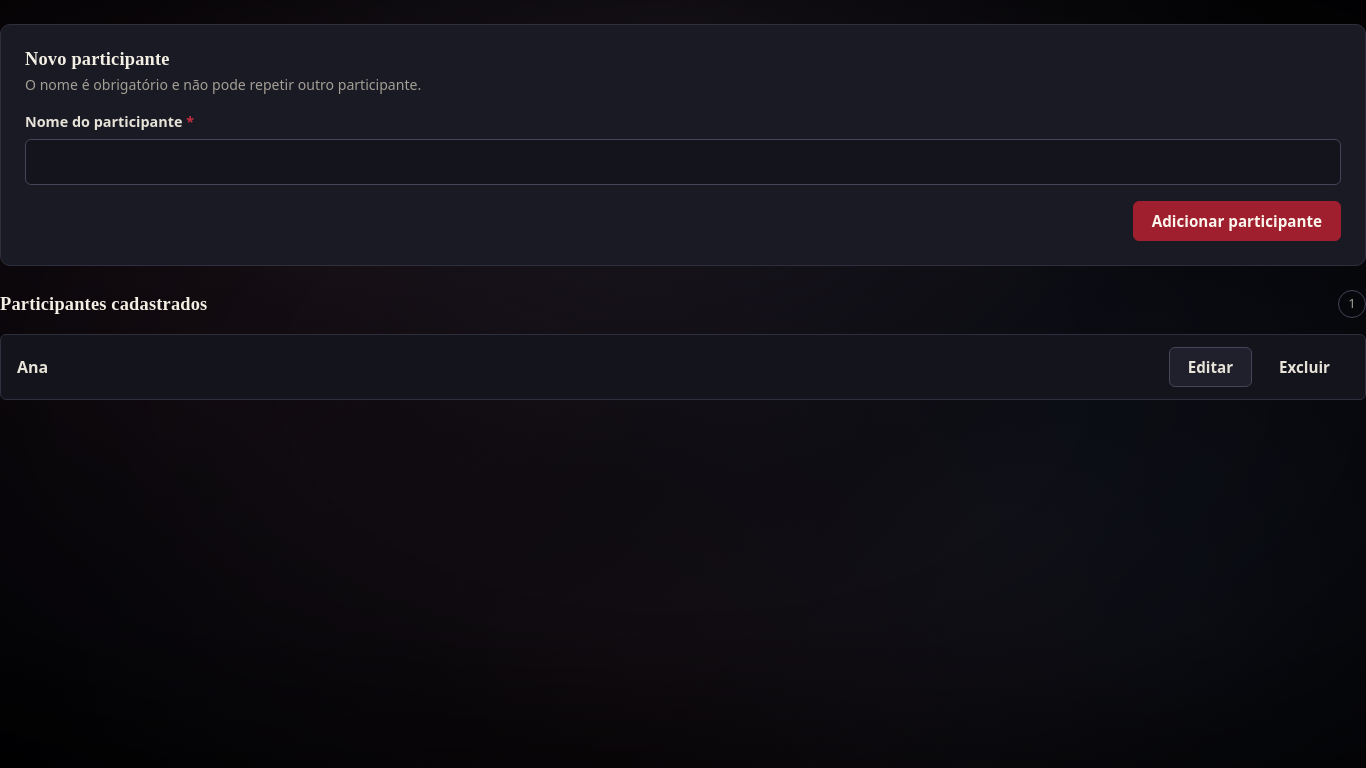
Test: Exclusão de participante (integração) › cancela a confirmação sem arquivar
The image size is (1366, 768).
Expected: the text "Ana" is shown, [17,355,48,379]
Click the button with aria-label "Excluir Ana" at [1305, 367], box [1260,347,1349,387]
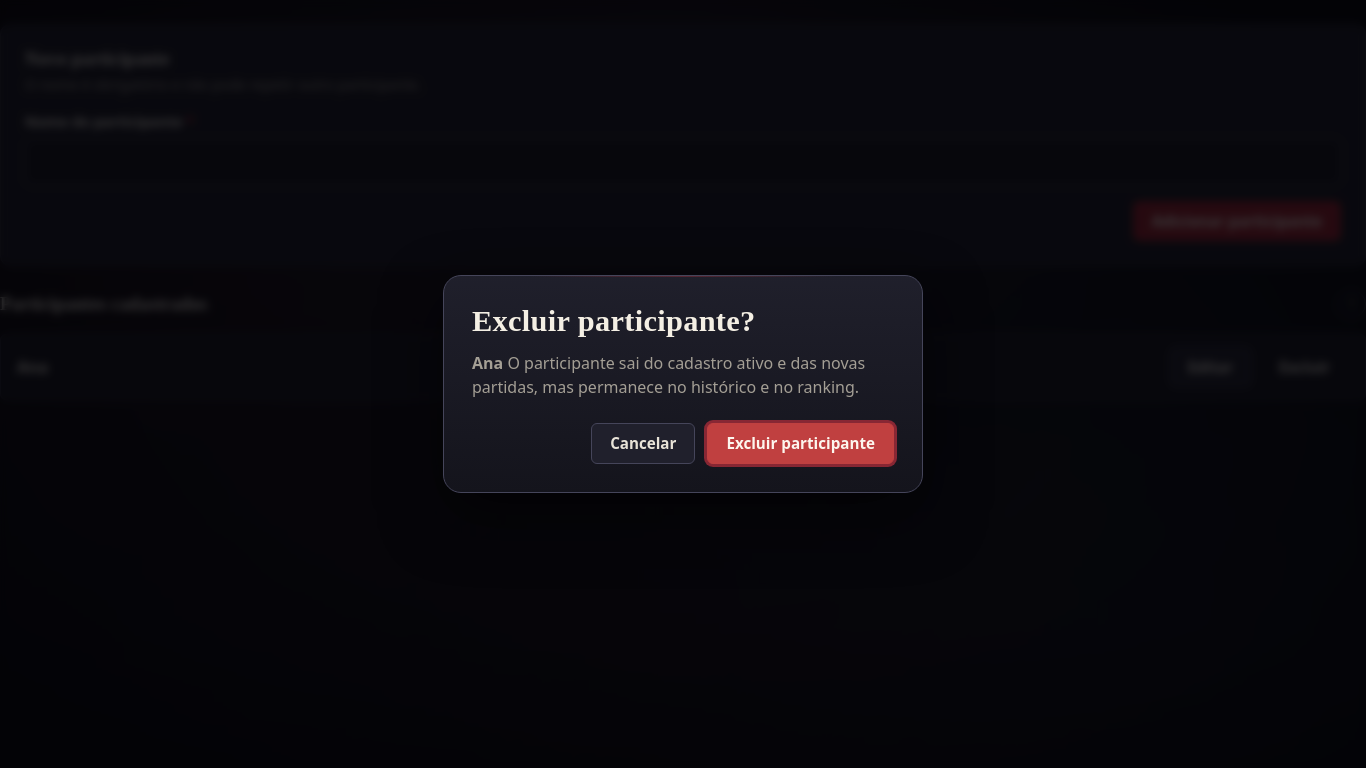
Click the button "Cancelar" at [643, 444], box [591,423,695,464]
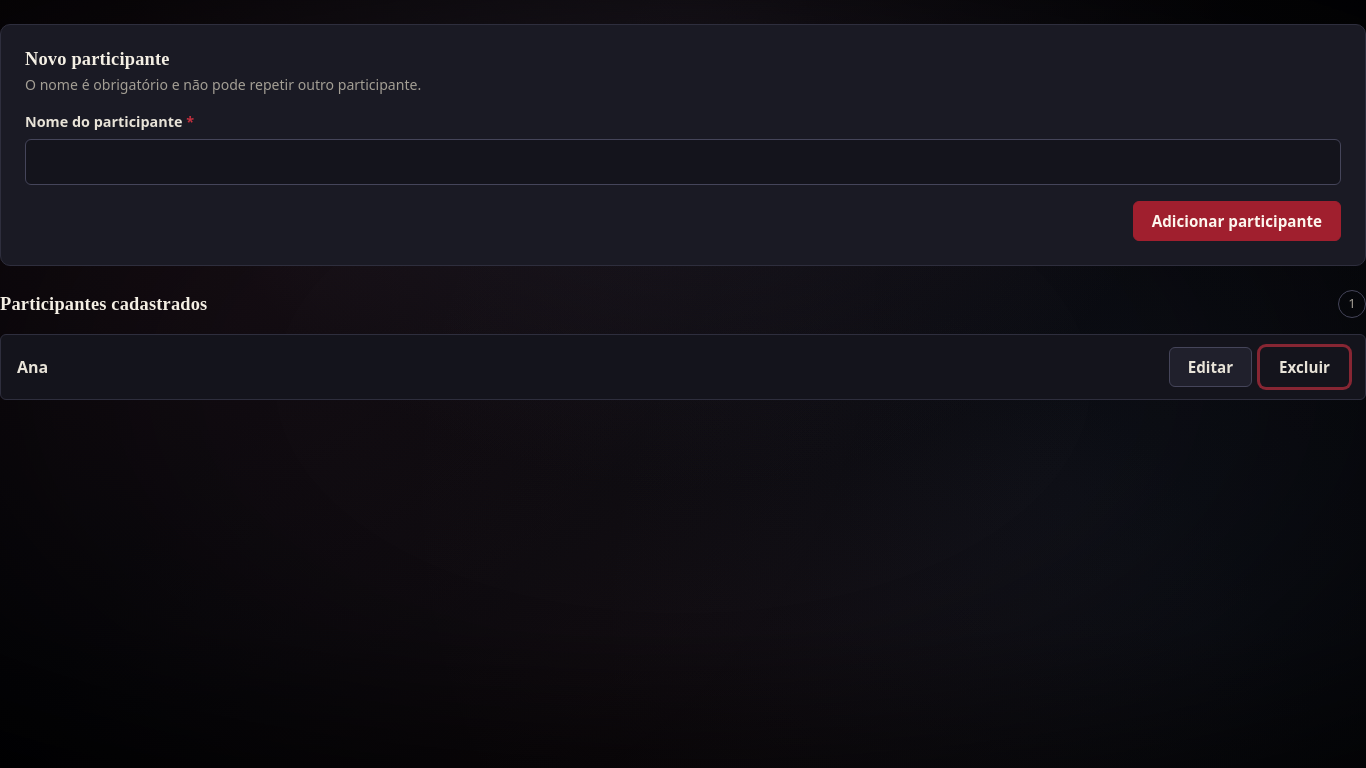
Expected: the text "Ana" is shown, [17,355,48,379]
Expected: the dialog is gone
